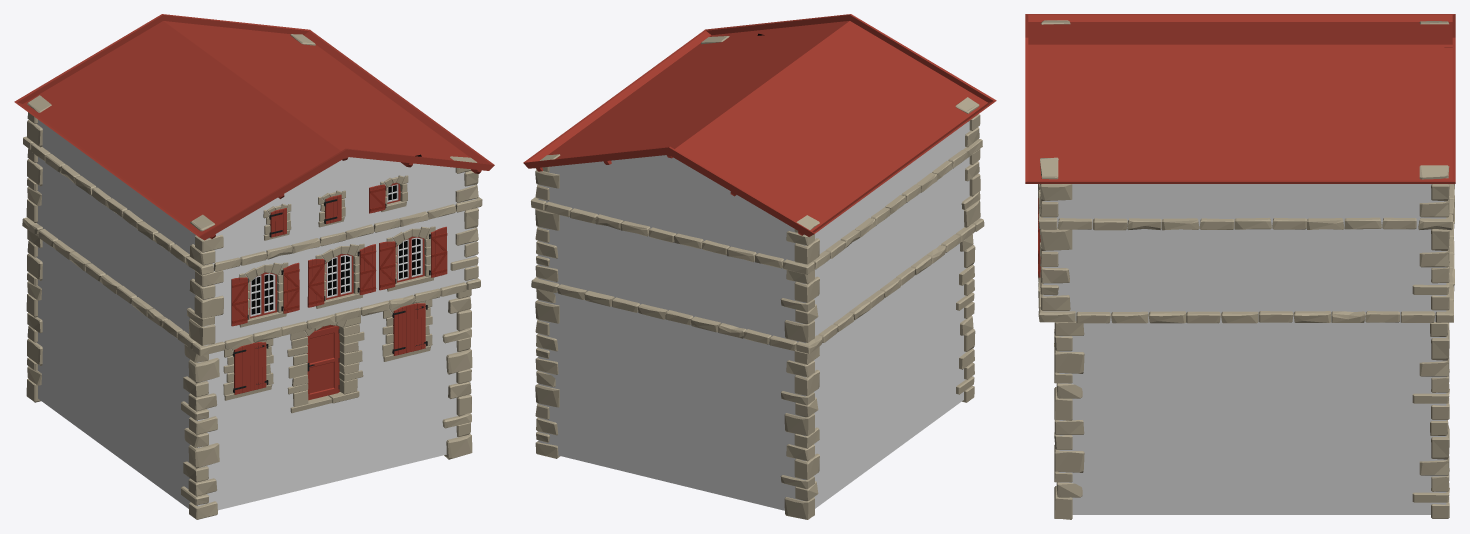
The model's file is maison_basque.glb.
3 renders of one model, left to right at view 1: azimuth 30°, elevation 25°; view 2: azimuth 150°, elevation 25°; view 3: azimuth 270°, elevation 25°, orthographic. The views are drawn at different scales.
Parts seen in each view (by area): view 1: Walls, Roof, House-Bricks, Door-Bricks, Door, Black-Plane, Window-Bottom-Bricks.004, Window-Bottom-Bricks.002, Window-Bottom-Bricks.003, Window-Bottom-Bricks.001, Window-Bottom-Bricks, Cube.012 (+9 smaller); view 2: Walls, Roof, House-Bricks; view 3: Walls, Roof, House-Bricks.
Part boxes in pixels (x1,y1,x2,y2): Walls: (36, 119, 475, 510); Roof: (14, 14, 494, 240); House-Bricks: (22, 34, 482, 519); Door-Bricks: (287, 315, 364, 413); Door: (307, 326, 339, 400); Black-Plane: (251, 154, 421, 342); Window-Bottom-Bricks.004: (386, 226, 435, 291); Window-Bottom-Bricks.002: (239, 262, 288, 327); Window-Bottom-Bricks.003: (315, 243, 364, 308); Window-Bottom-Bricks.001: (382, 299, 432, 361); Window-Bottom-Bricks: (223, 338, 273, 400); Cube.012: (281, 262, 299, 313); Walls: (538, 121, 969, 510); Roof: (523, 14, 996, 236); House-Bricks: (531, 36, 984, 519); Walls: (1043, 184, 1446, 514); Roof: (1025, 14, 1455, 183); House-Bricks: (1038, 20, 1454, 519).
Bounding box in the file's own units: 10.44 × 11.74 × 11.3.
